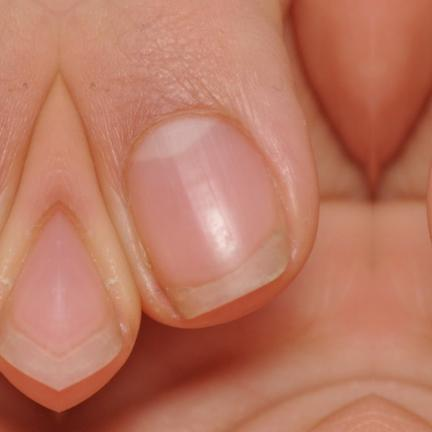Nail: (126, 115, 290, 320), (58, 208, 122, 392), (0, 208, 58, 392)
